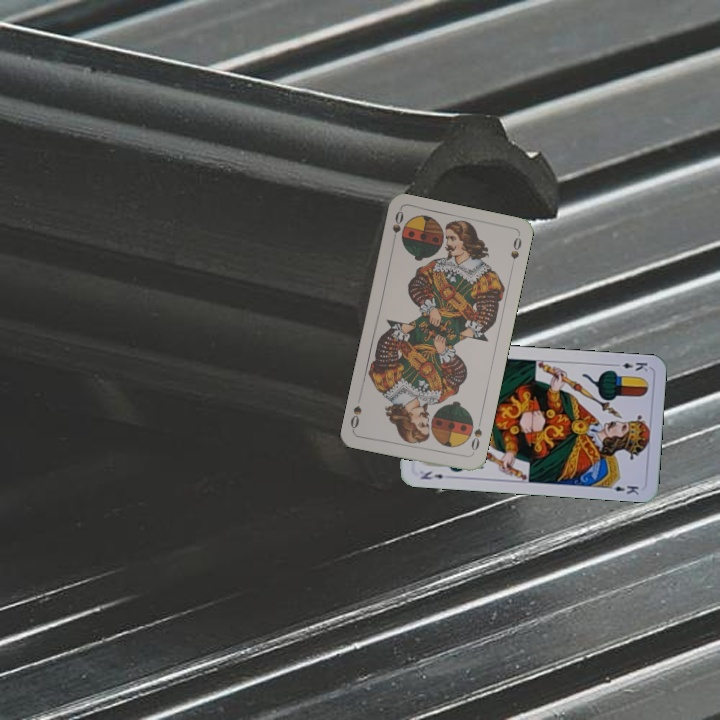EK: (610, 358, 650, 374), (417, 467, 446, 482)
SO: (467, 417, 485, 457), (388, 207, 406, 247)
